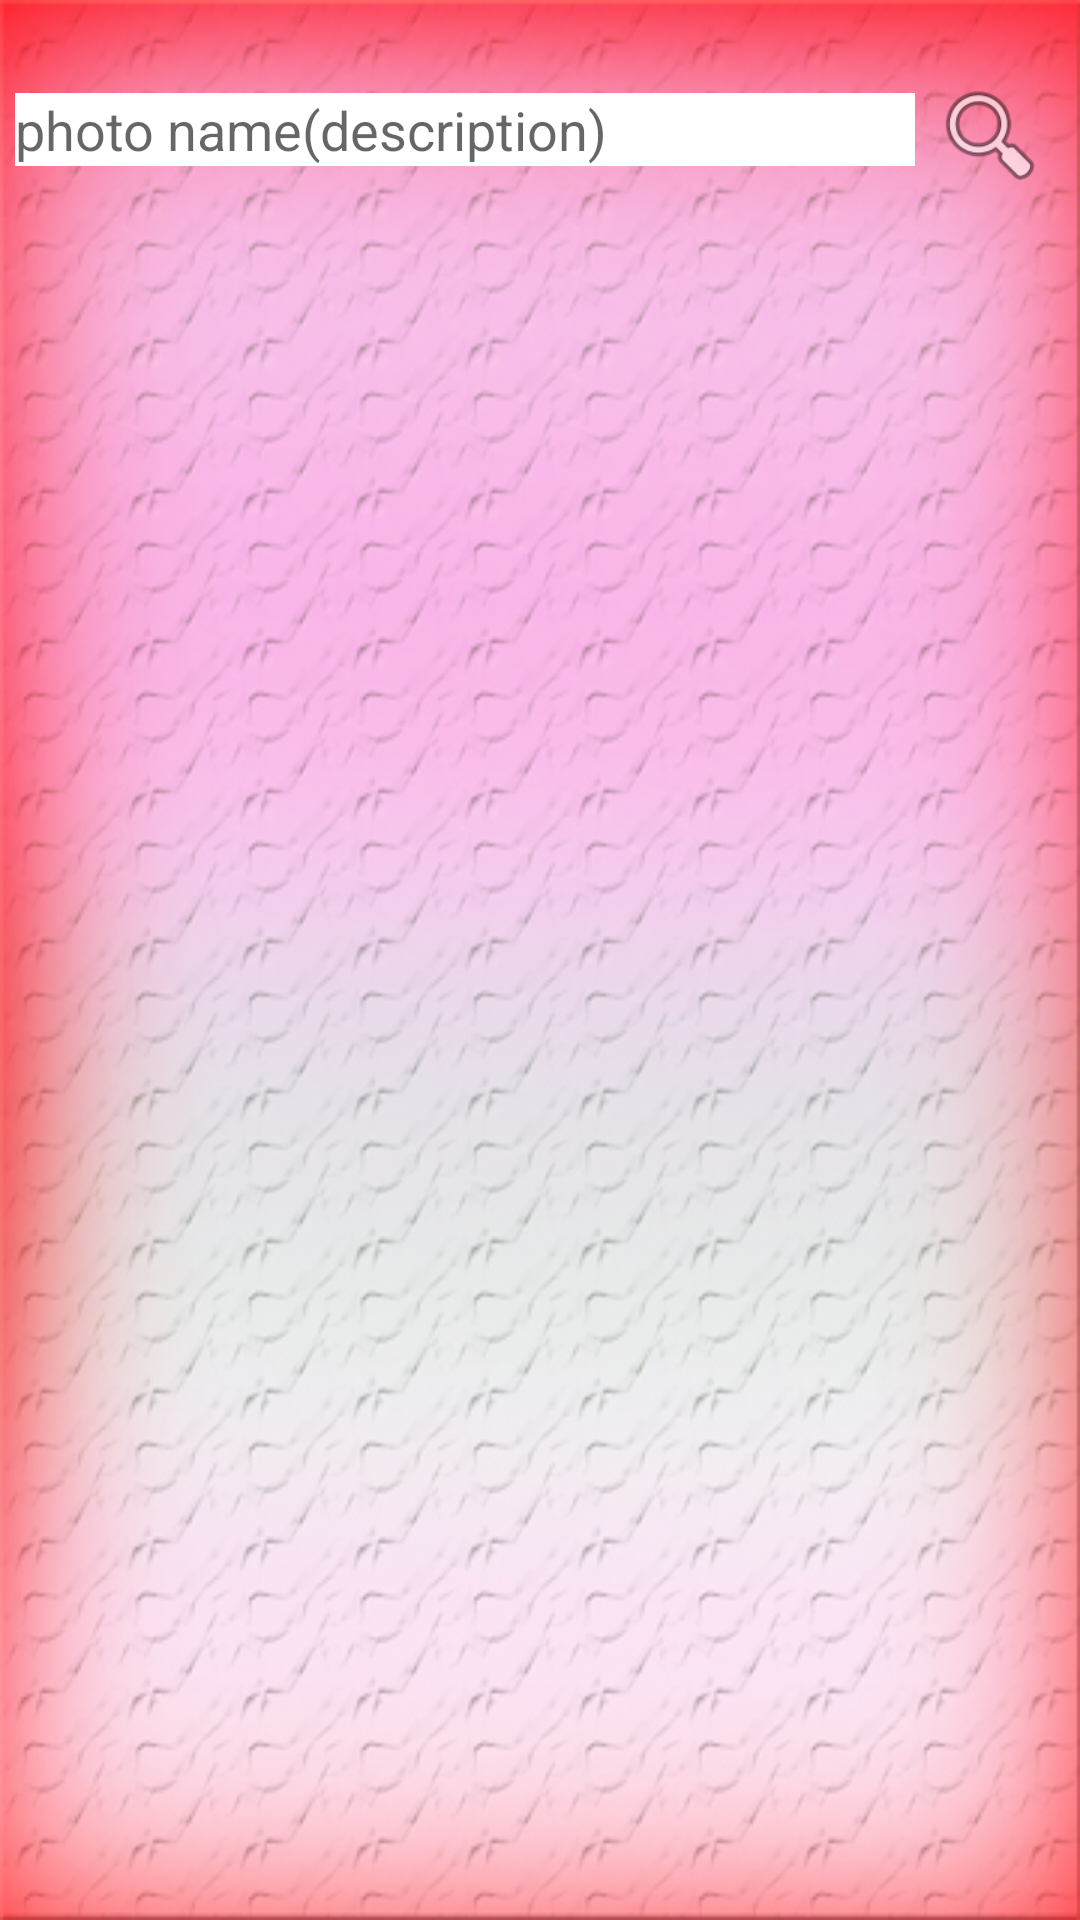

Point at icon controls on the screen. Image size 1080px×1920px, points as point (x, y).
search: point (990, 135)
